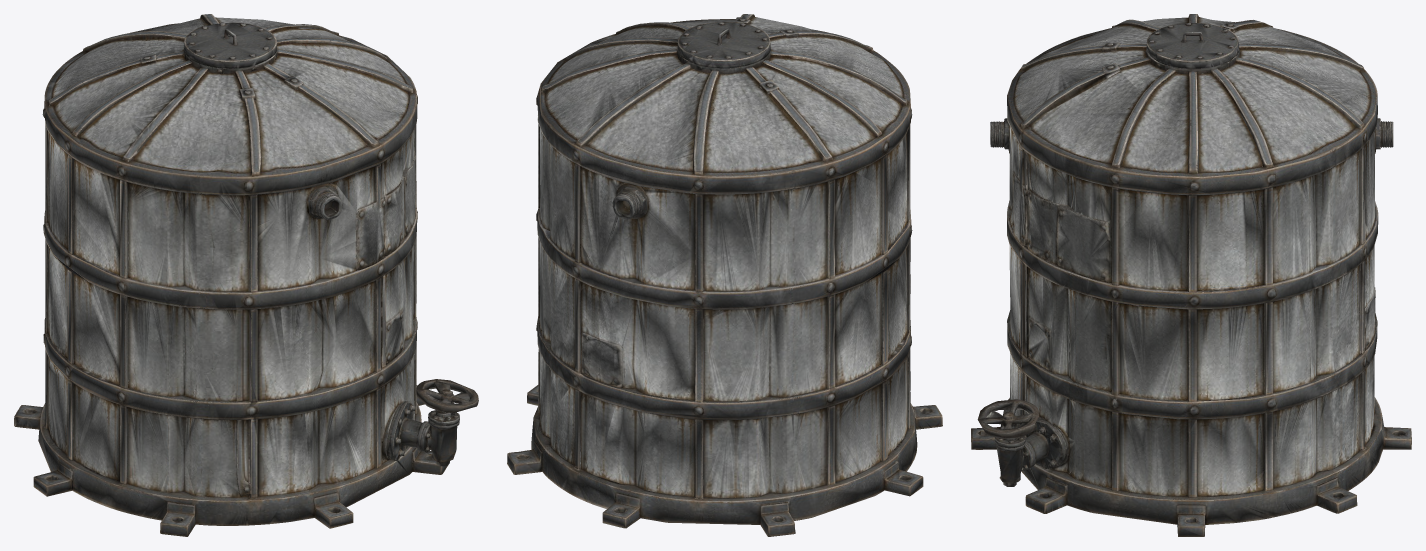
File: tank_steel.glb
3 views of the same model, side by side, from view 1: azimuth 30°, elevation 25°; view 2: azimuth 150°, elevation 25°; view 3: azimuth 270°, elevation 25° (orthographic).
Parts seen in each view (by area): view 1: tank_steel; view 2: tank_steel; view 3: tank_steel.
Part boxes in pixels (box(x1,y1,x2,y2)): tank_steel: box(14, 14, 478, 536); tank_steel: box(507, 14, 942, 536); tank_steel: box(971, 14, 1411, 536).
Size of the model in its own units: 184 by 190 by 184.
Materials: 1 (1 with a texture image).
